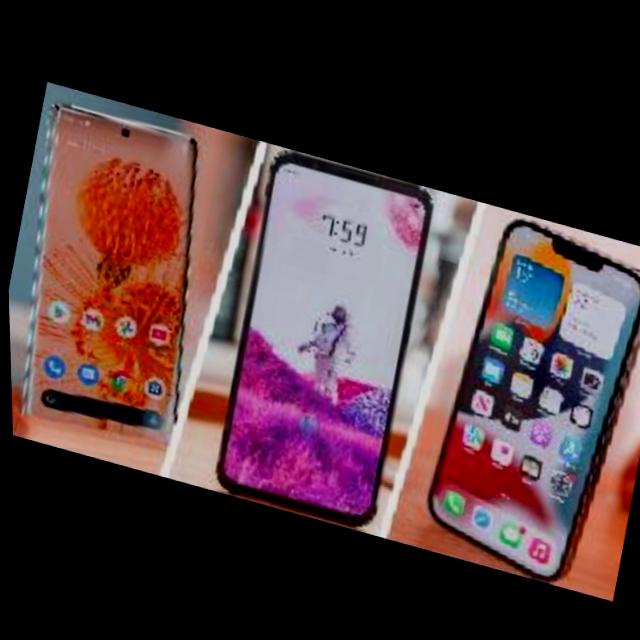Smartphone: (199, 141, 442, 529), (405, 197, 640, 591), (2, 92, 235, 454)
